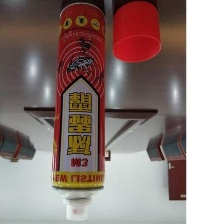aerosol_cans: (48, 0, 109, 221)
